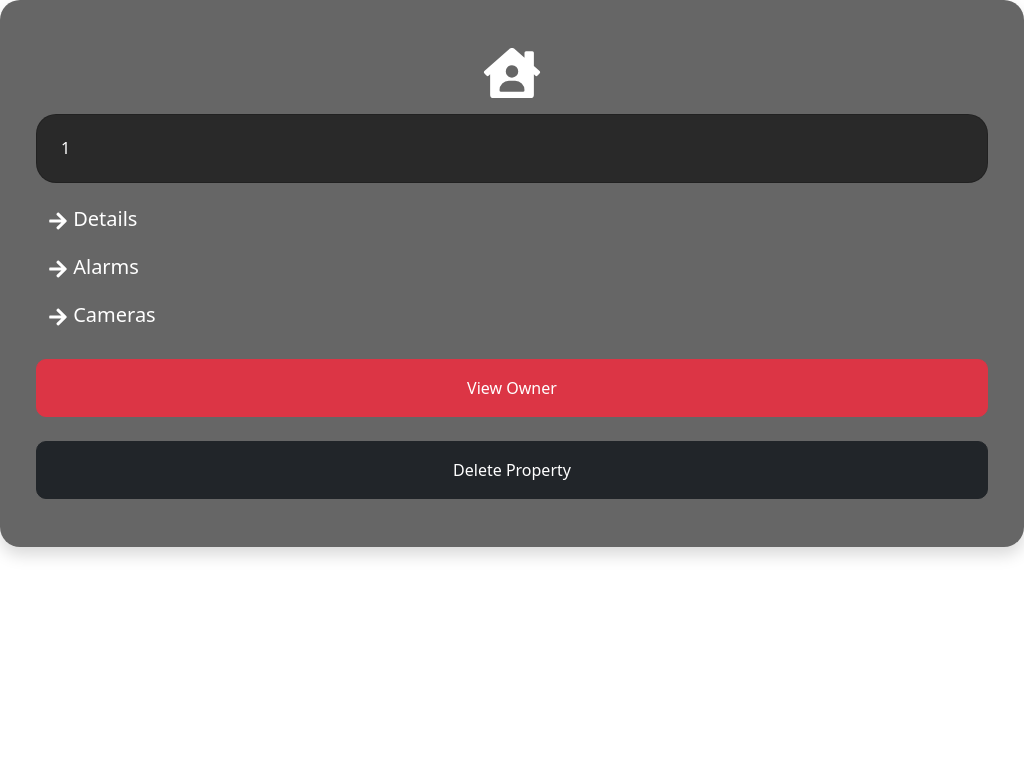
Test case: <PropertyCard /> › it should display property alarms
// View the content
Click the heading "Alarms" at (93, 267), box left=48, top=253, right=139, bottom=280
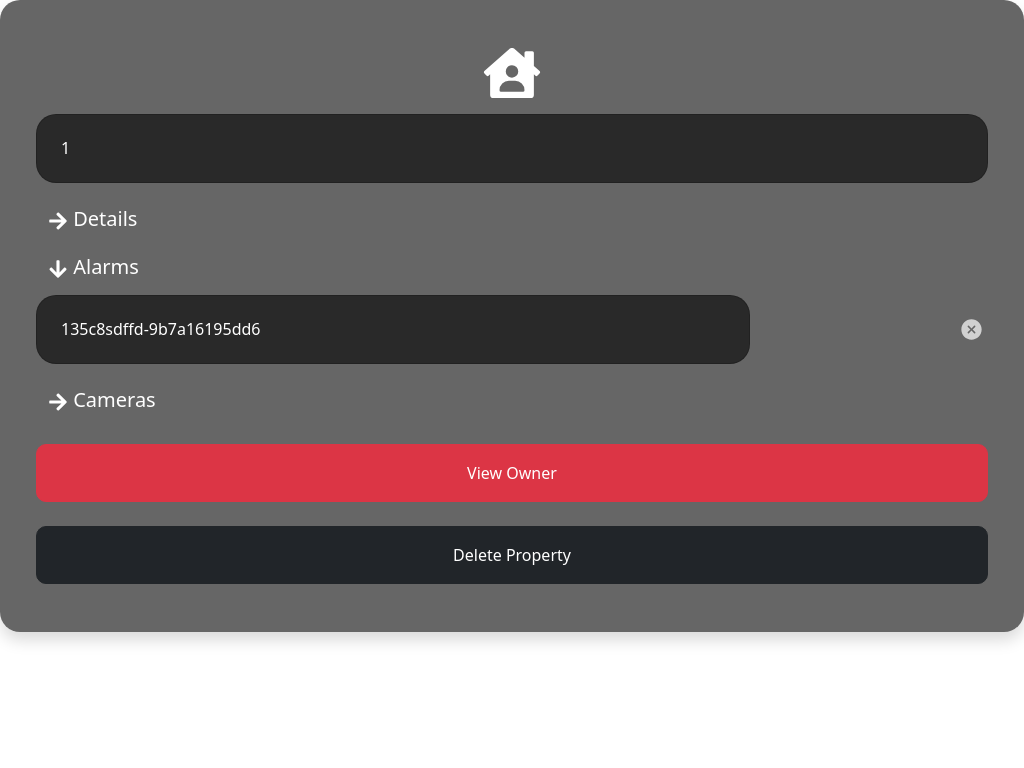
Expected: the heading "135c8sdffd-9b7a16195dd6" is shown, left=61, top=318, right=260, bottom=340
